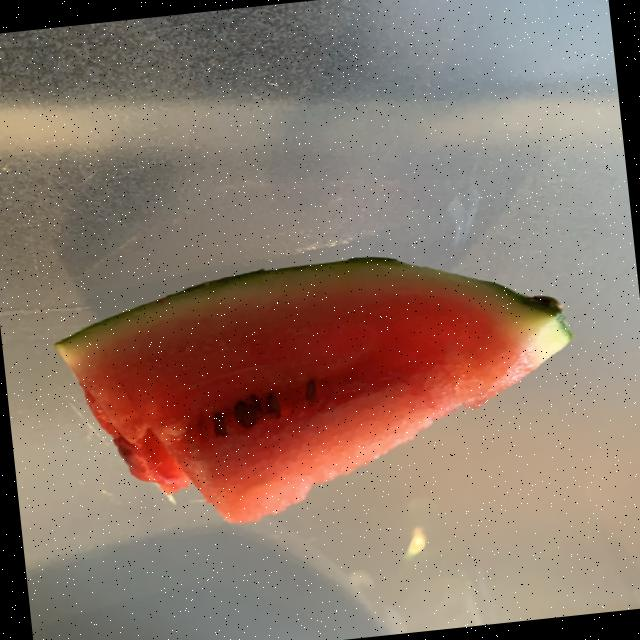watermelon-fresh: (65, 261, 562, 518)
